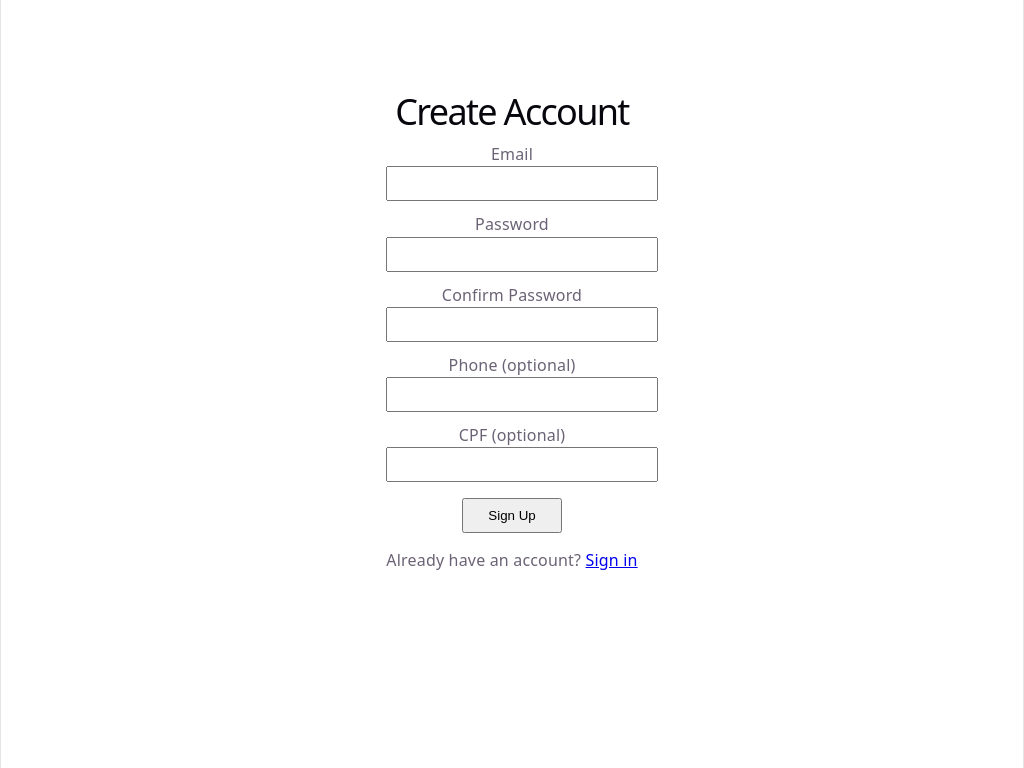
Test case: RegisterPage › renders non_field_errors on 400 response
Type "new@example.com" into the field labelled "Email" at (522, 184), box [386, 166, 658, 201]
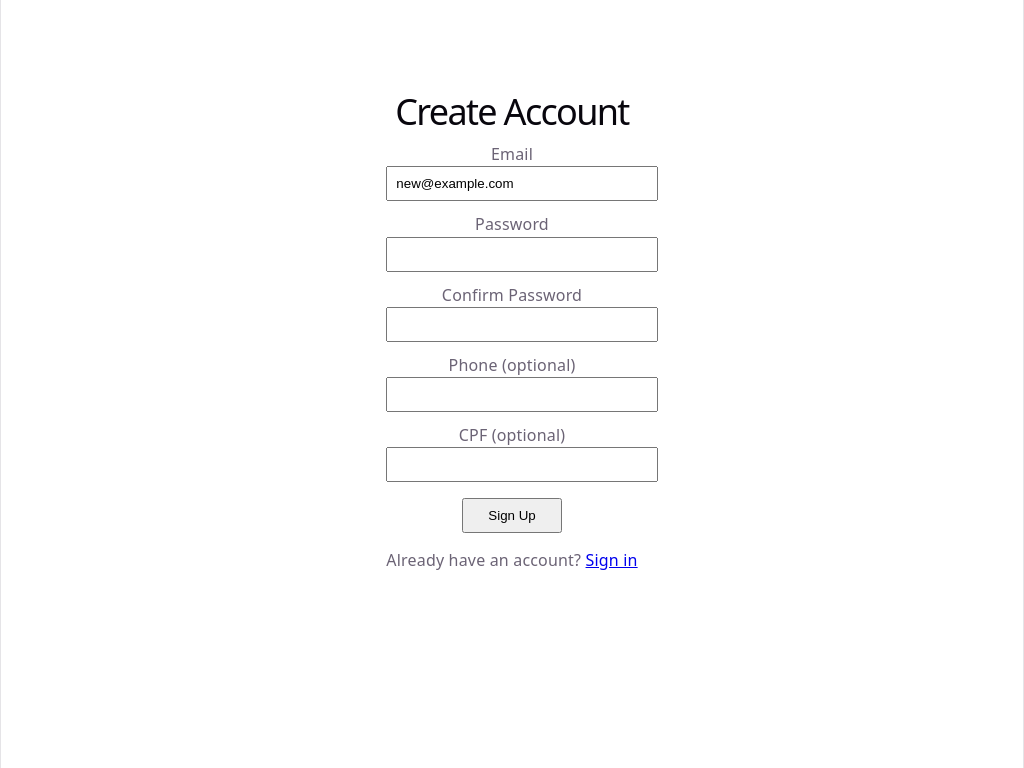
Type "strongpass1" into the password field labelled "Password" at (522, 254), box [386, 237, 658, 272]
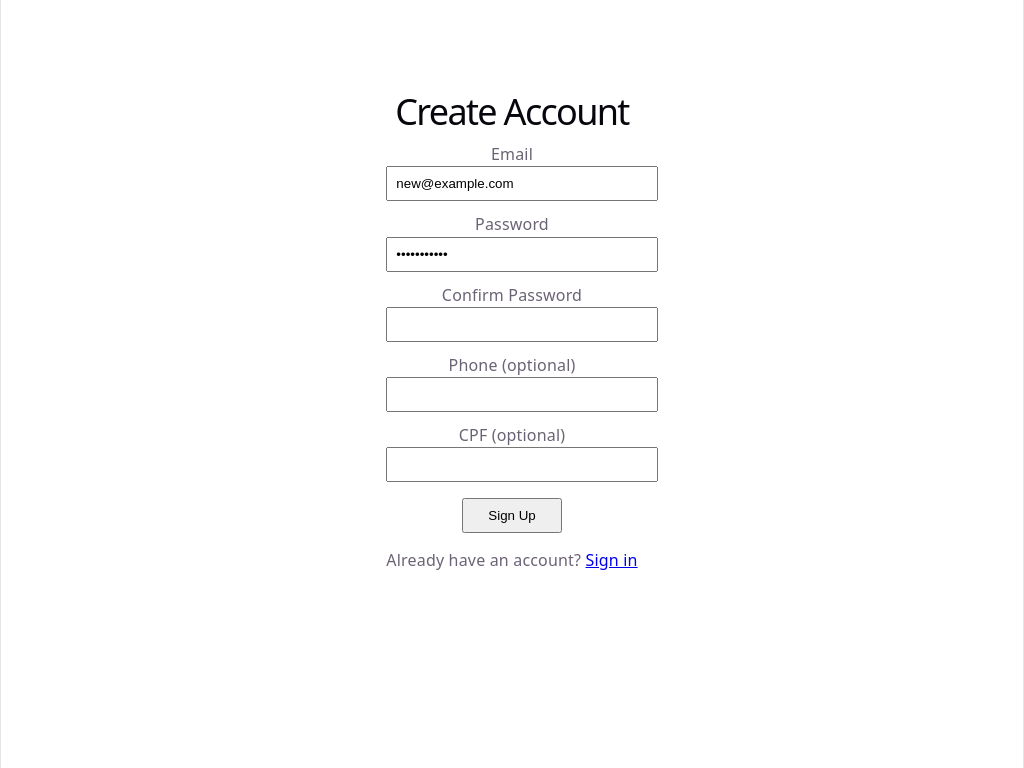
Type "differentpass" into the password field labelled "Confirm Password" at (522, 324), box [386, 307, 658, 342]
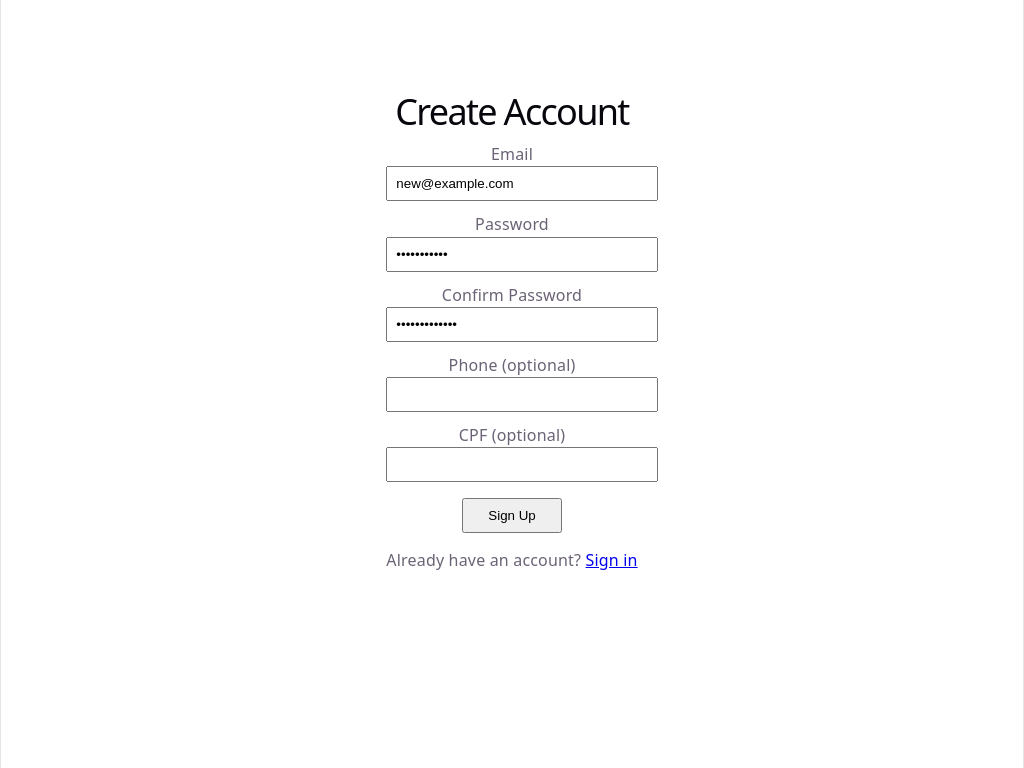
Click the button "Sign Up" at (512, 516), box [462, 498, 562, 533]
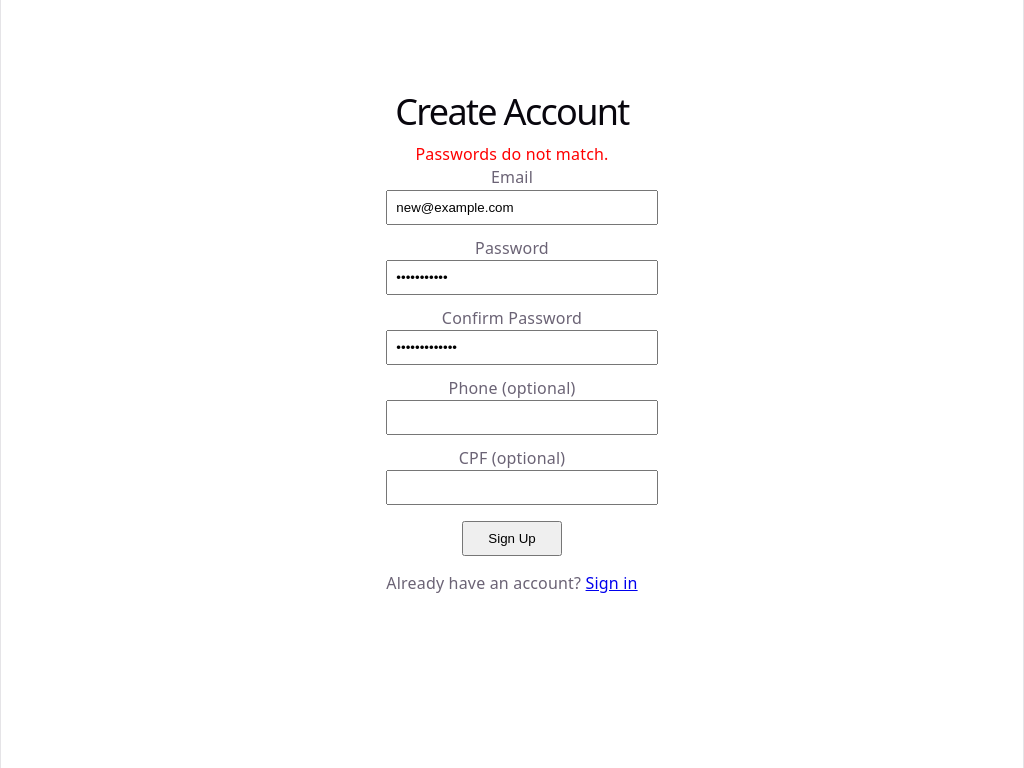
Check: the text "Passwords do not match." is shown, box [415, 143, 608, 165]
